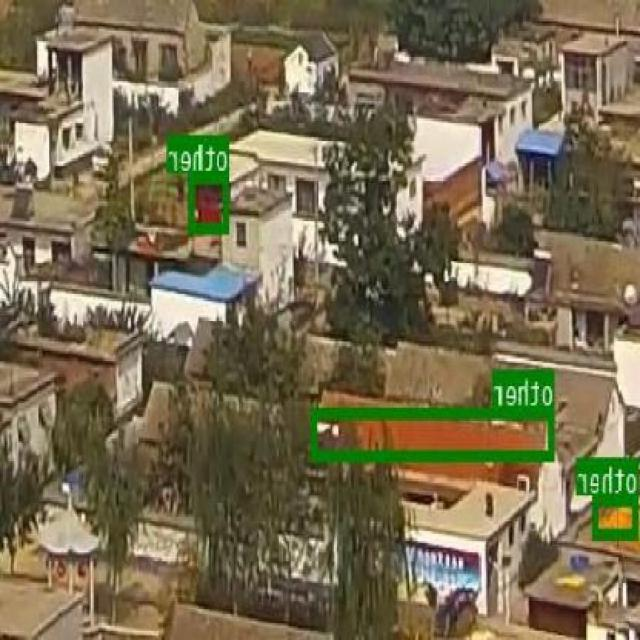other: (312, 407, 556, 458), (190, 173, 230, 232), (593, 494, 639, 538)
